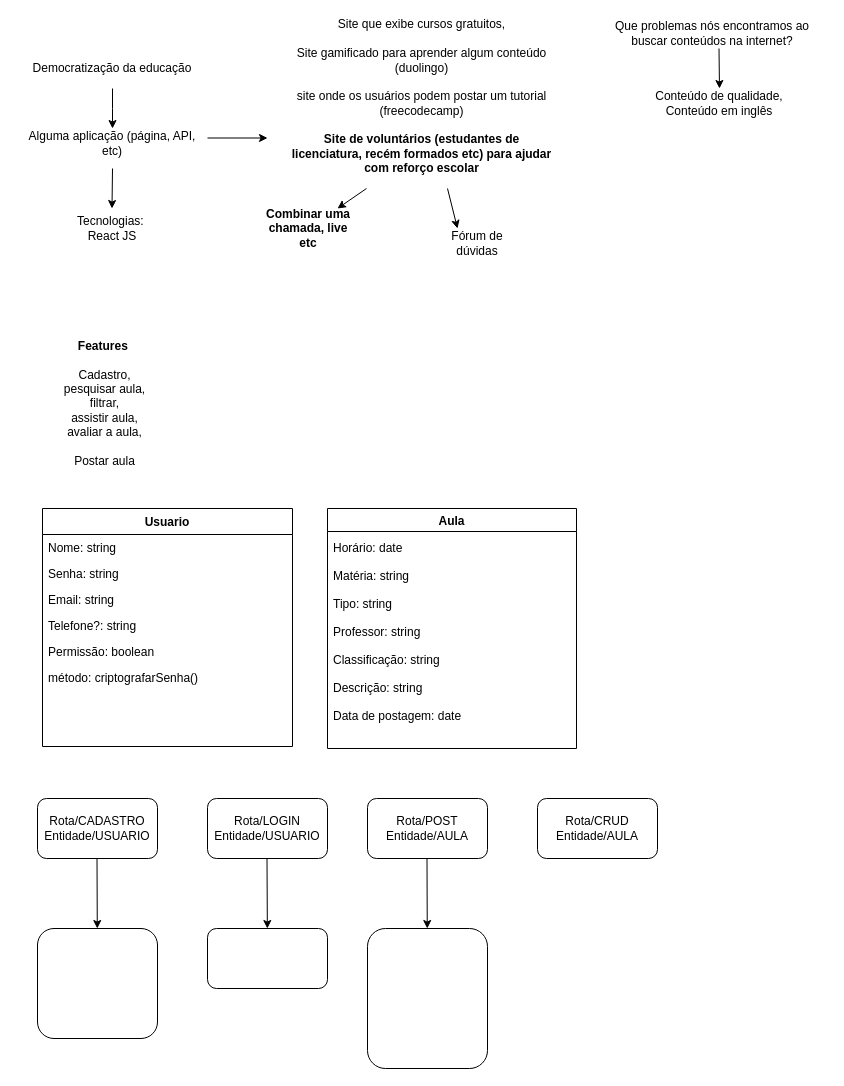
Image size: 844x1086. Some labels were removed from this diagram. The centre of each missing label's shape, as x and y in pixels:
"email senha" goes at pixel 267 958.
"Horário matéria tipo professor classificação descrição" goes at pixel 427 998.
"Nome Email Senha Telefone Permissão" goes at pixel 97 983.
